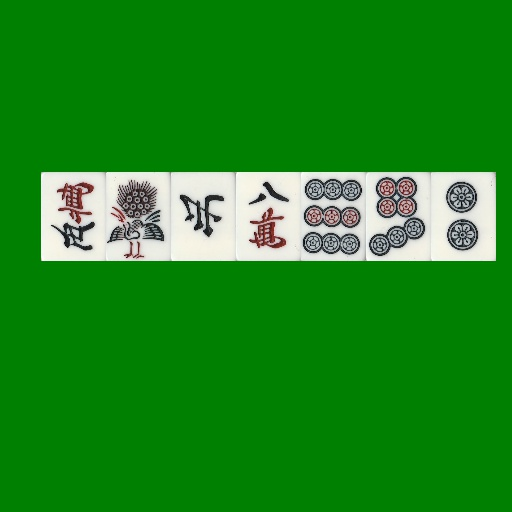1s: (106, 172, 171, 261)
2p: (431, 172, 496, 261)
5m: (41, 172, 106, 261)
7p: (366, 172, 431, 261)
8m: (236, 172, 301, 261)
9p: (301, 172, 366, 261)
north: (171, 172, 236, 261)
